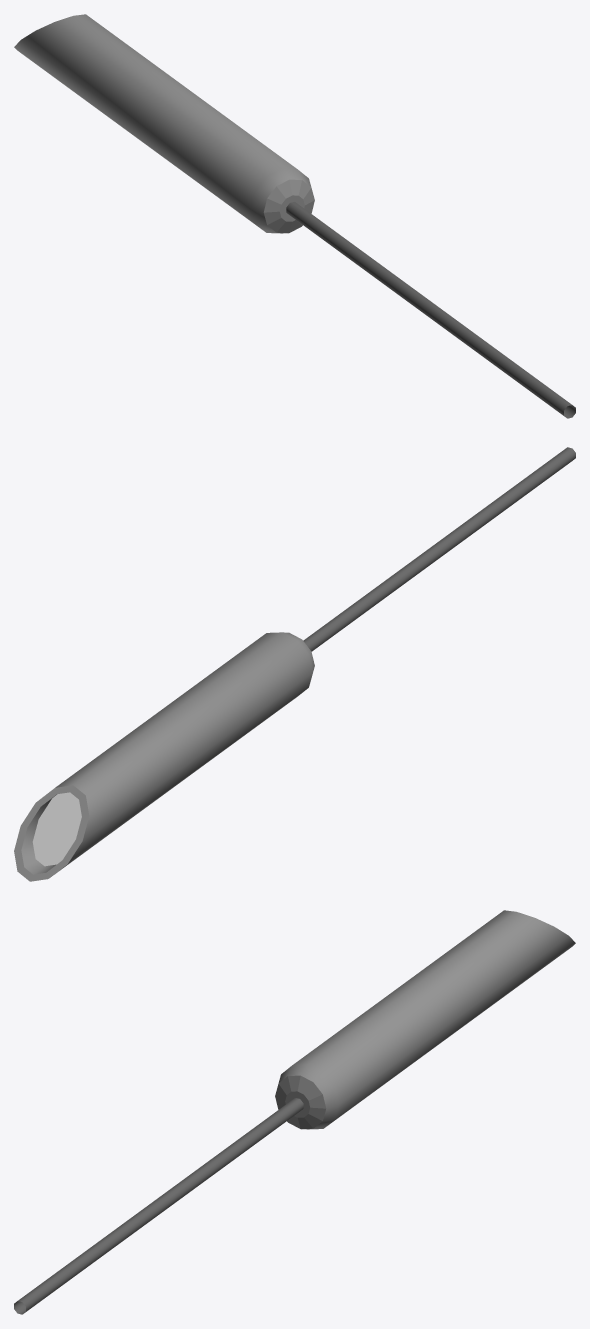
Rendered from Ceiling_Lamp_1_B.obj.
The picture shows the model from 3 angles, top to bottom: view 1: azimuth 30°, elevation 25°; view 2: azimuth 150°, elevation 25°; view 3: azimuth 330°, elevation 25°; orthographic projection.
Visible parts, largest first — view 1: Ceiling_Lamp_1_B; view 2: Ceiling_Lamp_1_B; view 3: Ceiling_Lamp_1_B.
Boxes of the visible parts, x1,y1,x2,y2 form: Ceiling_Lamp_1_B: (14, 14, 575, 418); Ceiling_Lamp_1_B: (14, 447, 575, 881); Ceiling_Lamp_1_B: (14, 910, 575, 1314).
Size of the model in its own units: 0.04 by 0.04 by 0.6033.
